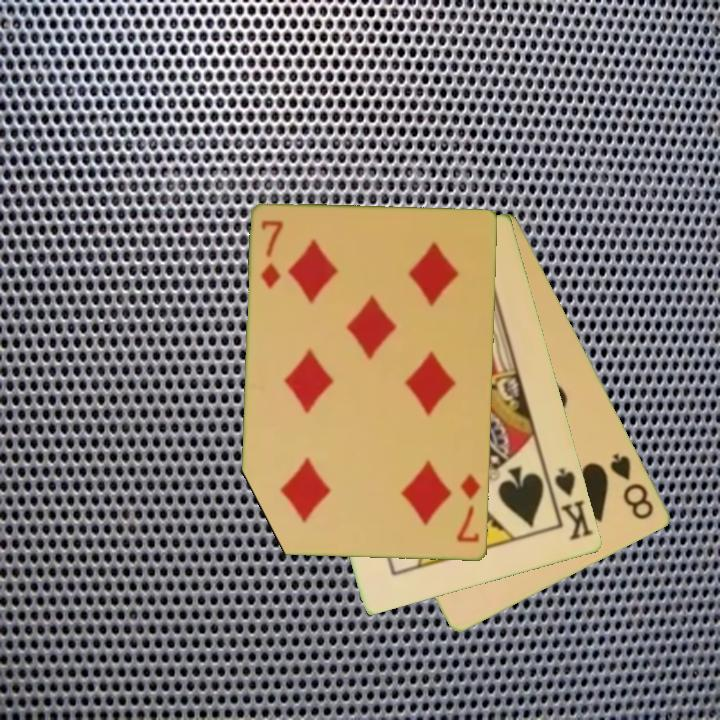7d: (454, 470, 484, 546), (258, 217, 287, 292)
8s: (607, 449, 658, 523)
Ks: (551, 464, 596, 544)
